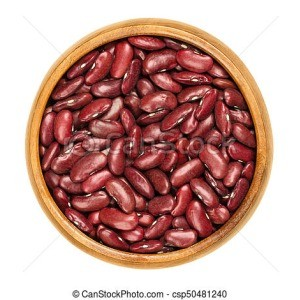beans_brain food: (87, 108, 228, 208)
